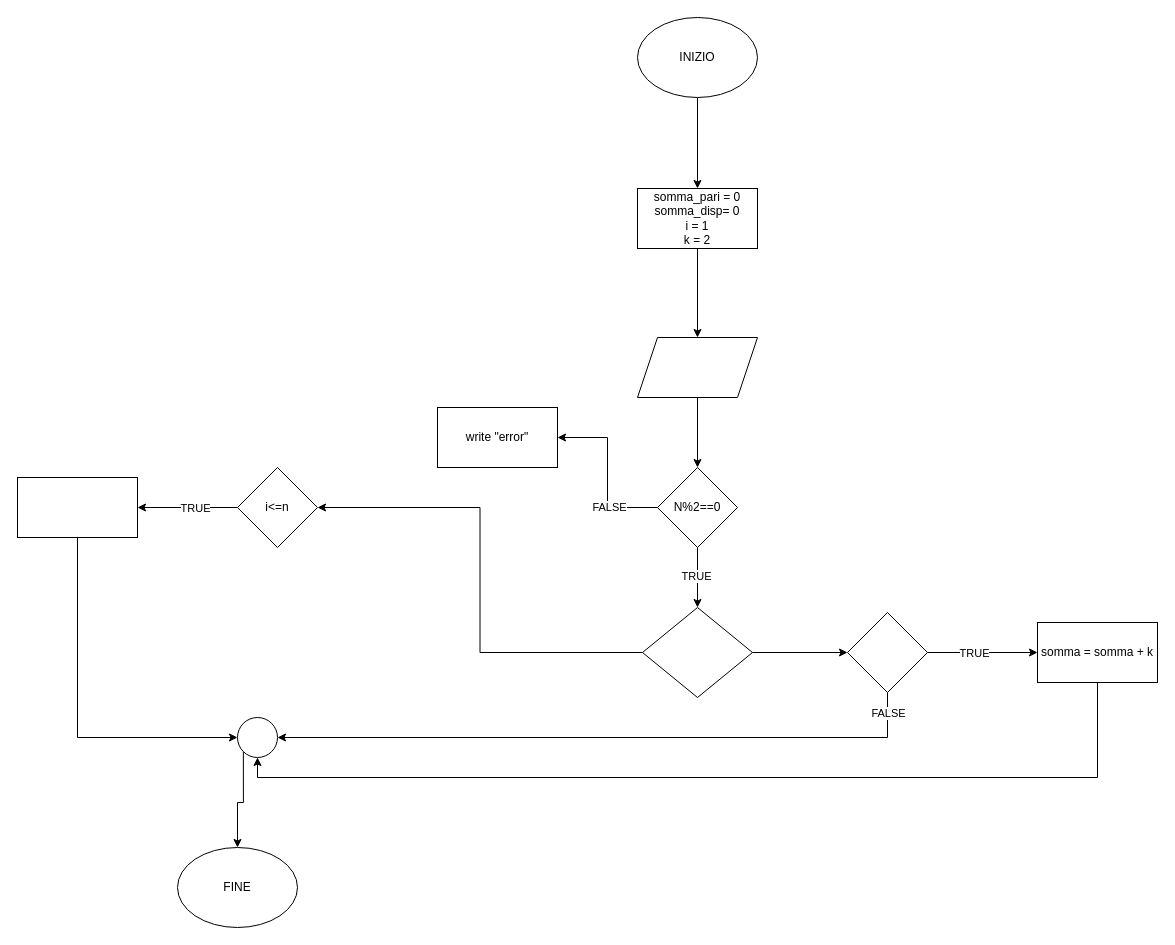
Some shapes in this 1175 by 945 pixel diagram are drawn without their labels. Each missing label, with the centre of its shape:
1<n<100: the point at 697,652
inserisci n: the point at 697,367
k<=n: the point at 887,652
somma_disp = somma_disp + i: the point at 77,507
